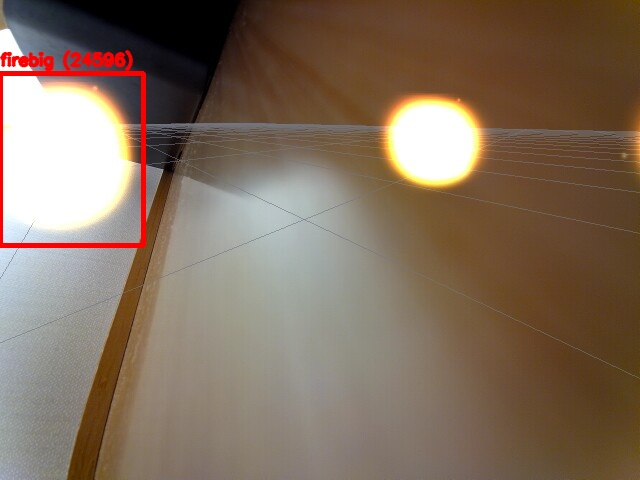firebig: (0, 73, 143, 245)
